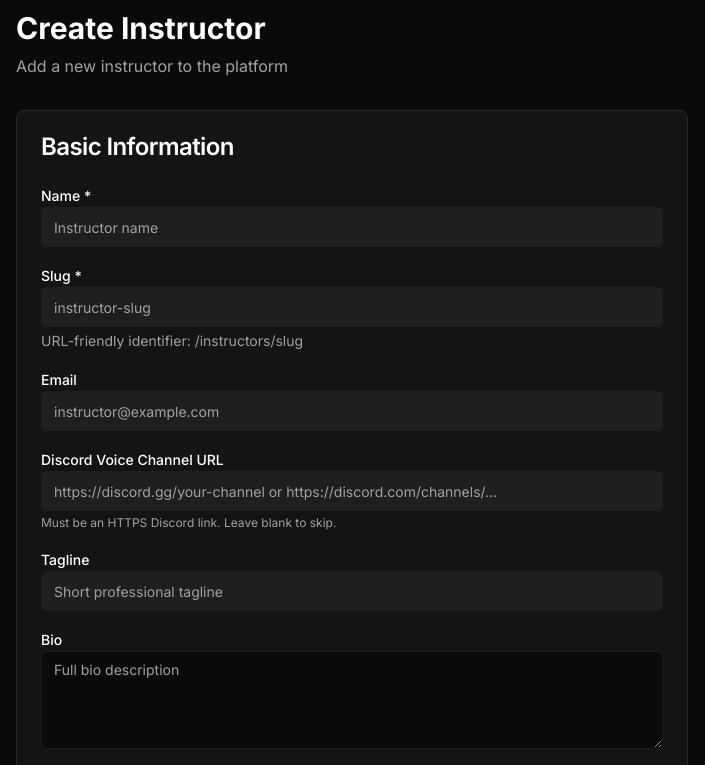
CreateInstructorPage › generates slug from name
This screenshot has width=705, height=765.
Type "Jane Doe" into the field labelled "Name *" at coordinates (352, 227), box [41,207,663,247]
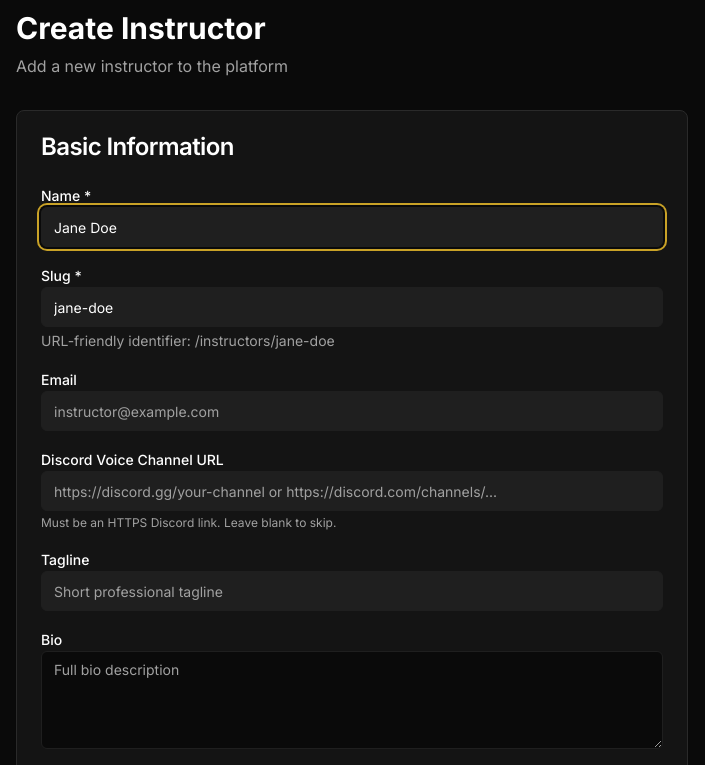
Expected: the field showing "jane-doe" is shown, [41,287,663,327]
